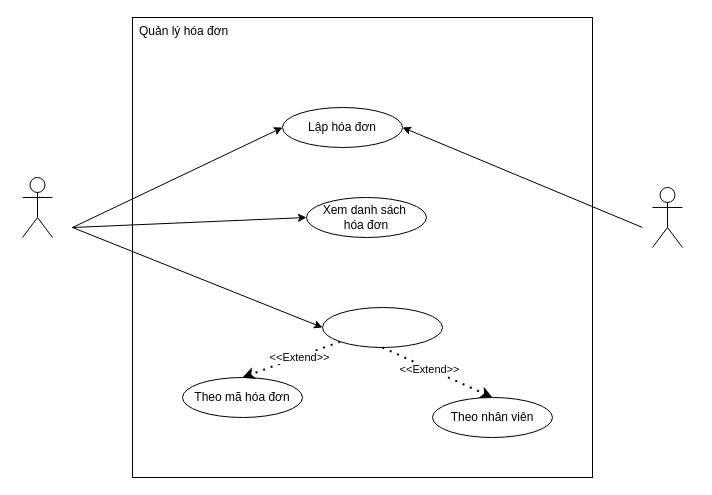
This 712x495 diagram has some shape labels left out. The shapes that lost their labels are listed below. From the top down, each one's centre as x and y in pixels, then its label:
the point at 37,207: Quản lý
the point at 667,217: Nhân viên
the point at 382,327: Tra cứu hóa đơn
